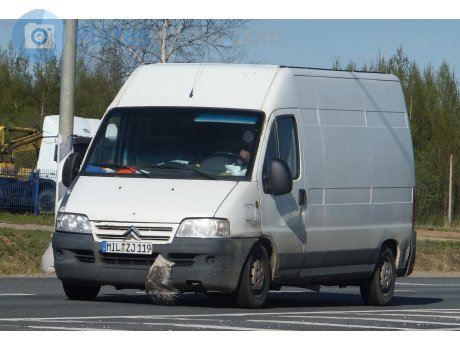License Plates: (106, 242, 153, 250)
